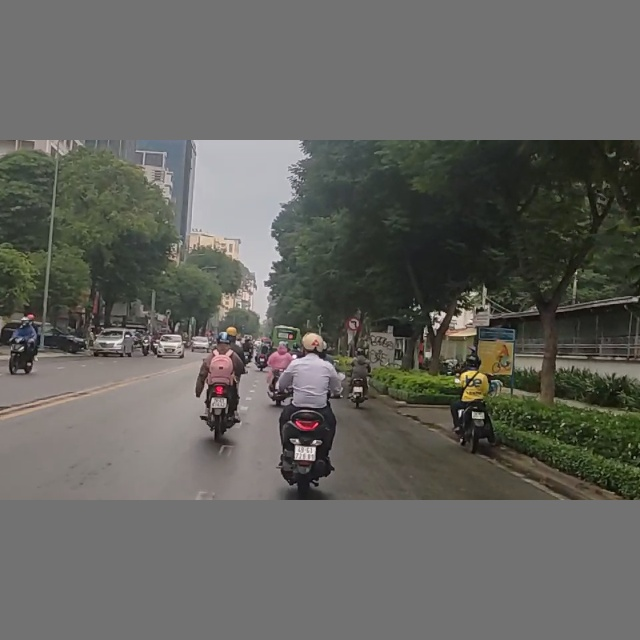P.123a: (347, 317, 361, 331)
